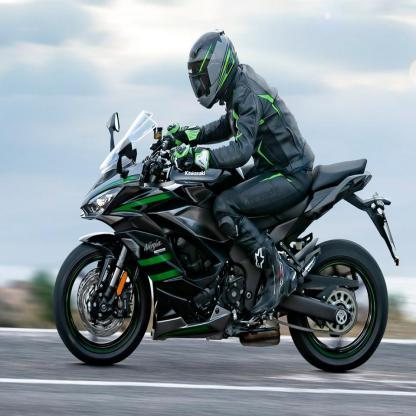Motorcycle: (49, 111, 401, 379)
